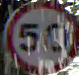Speed limit: (4, 1, 76, 71)
